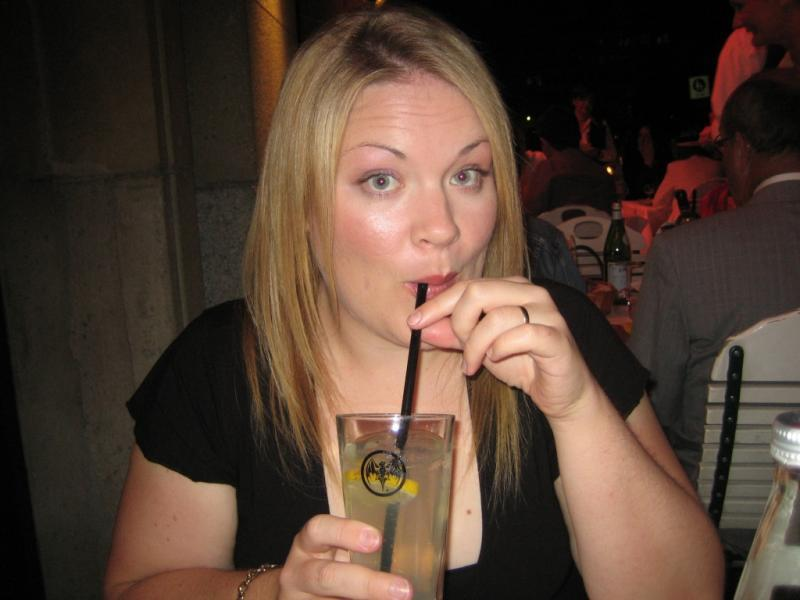person: (97, 8, 731, 600)
